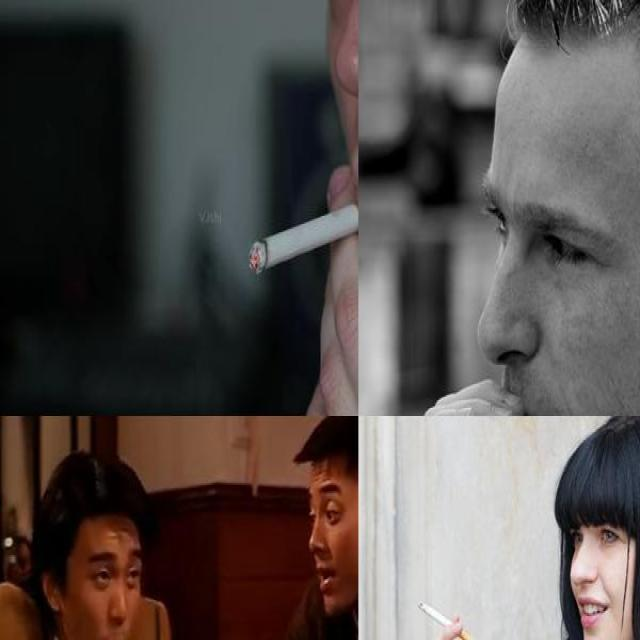smoking: (248, 187, 358, 277), (414, 594, 477, 638)
